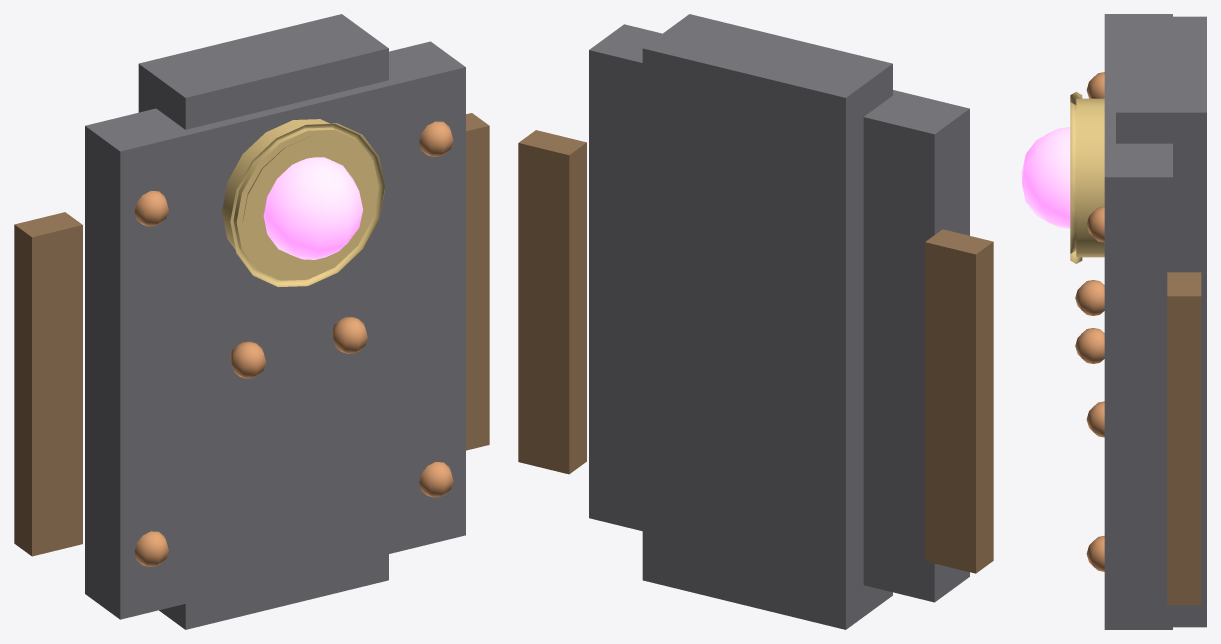
Rendered from chest_armor_plate.glb.
3 renders of one model, left to right at view 1: azimuth 30°, elevation 25°; view 2: azimuth 150°, elevation 25°; view 3: azimuth 270°, elevation 25°, orthographic. The views are drawn at different scales.
Visible parts, largest first — view 1: plate, straps, chest_trim, core, rivets; view 2: plate, straps; view 3: plate, straps, chest_trim, core, rivets.
Part boxes in pixels (left/top/right/bottom): plate: left=85, top=14, right=465, bottom=629; straps: left=14, top=113, right=489, bottom=556; chest_trim: left=222, top=119, right=384, bottom=287; core: left=263, top=157, right=363, bottom=259; rivets: left=134, top=121, right=453, bottom=566; plate: left=589, top=14, right=969, bottom=629; straps: left=518, top=130, right=993, bottom=573; plate: left=1104, top=14, right=1206, bottom=629; straps: left=1167, top=272, right=1201, bottom=604; chest_trim: left=1070, top=91, right=1104, bottom=263; core: left=1022, top=127, right=1070, bottom=228; rivets: left=1075, top=72, right=1104, bottom=571.
Bounding box in the file's own units: 0.45 × 0.5 × 0.1628.
